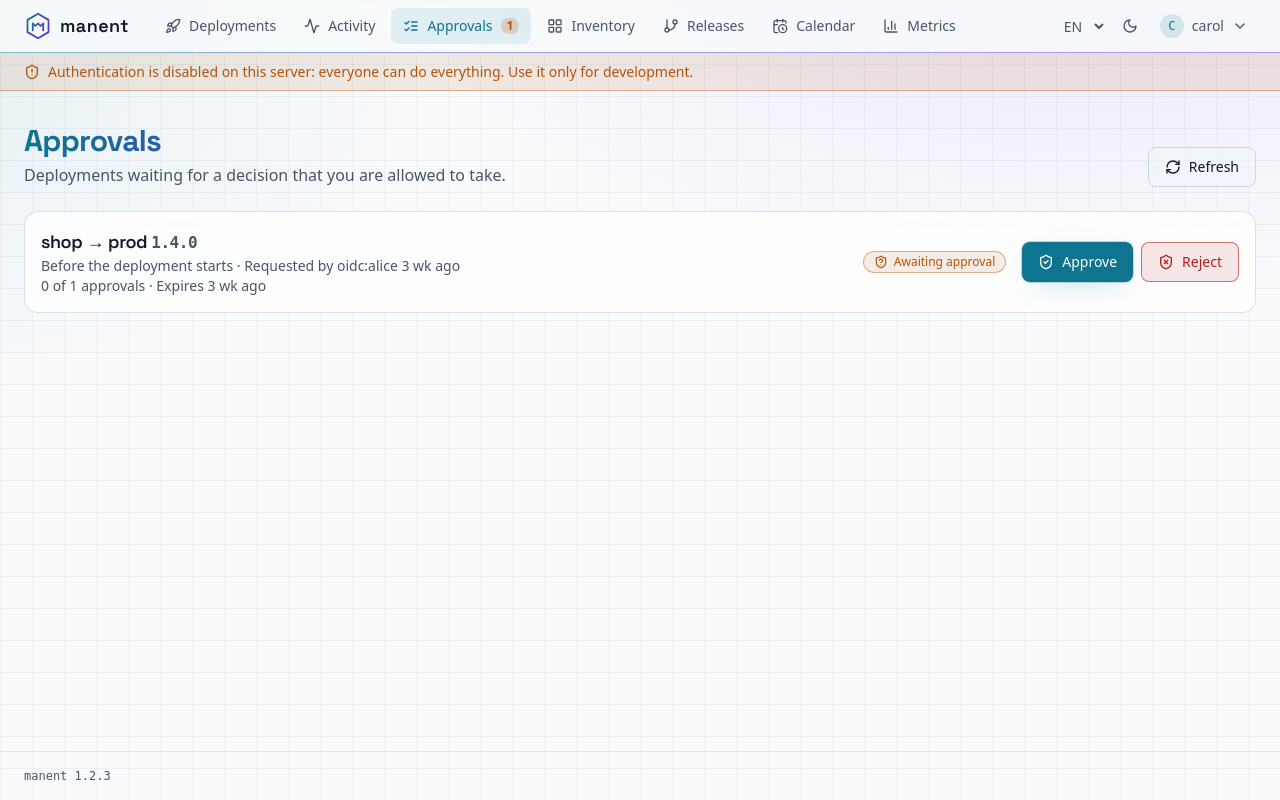
it: approvazioni › per respingere serve un commento
Click the button "Reject". click: [1190, 262]
box: [1141,242,1239,282]
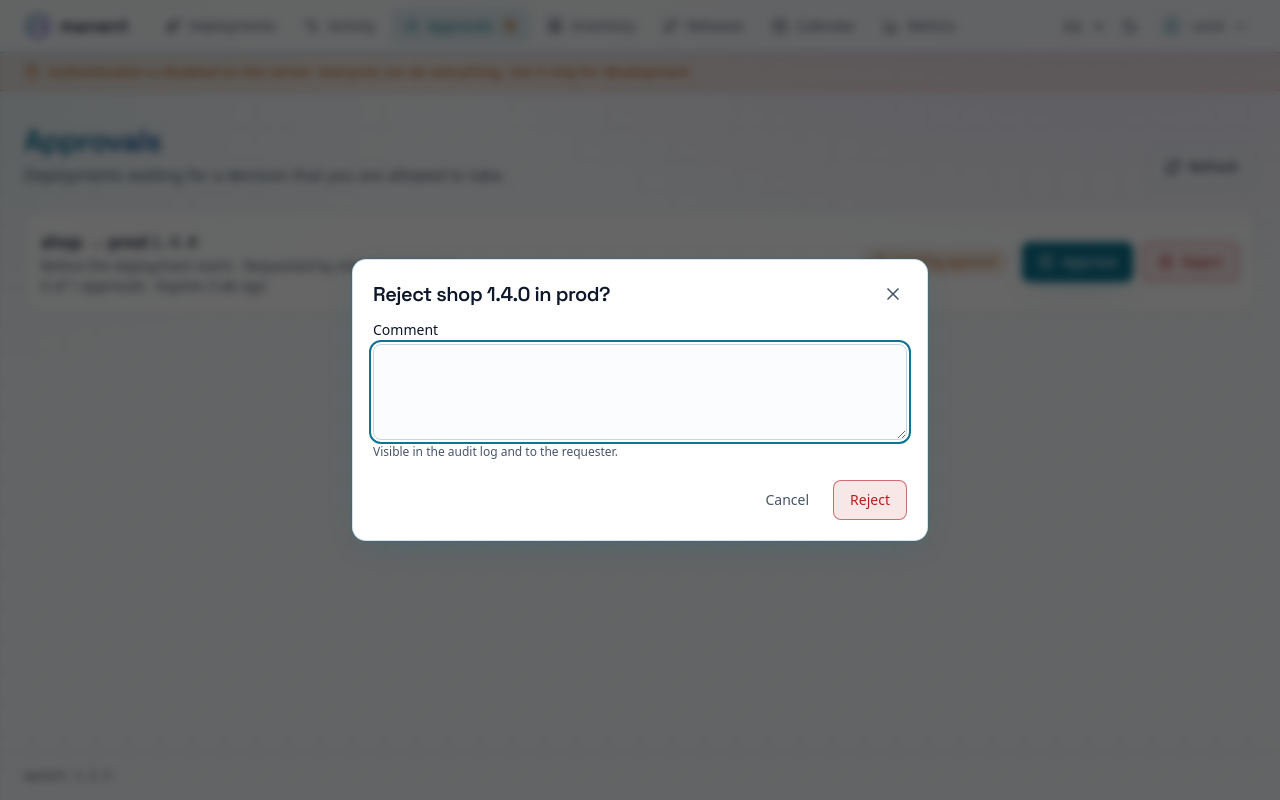
Click the button "Reject". click: [870, 500]
box: [833,480,907,520]
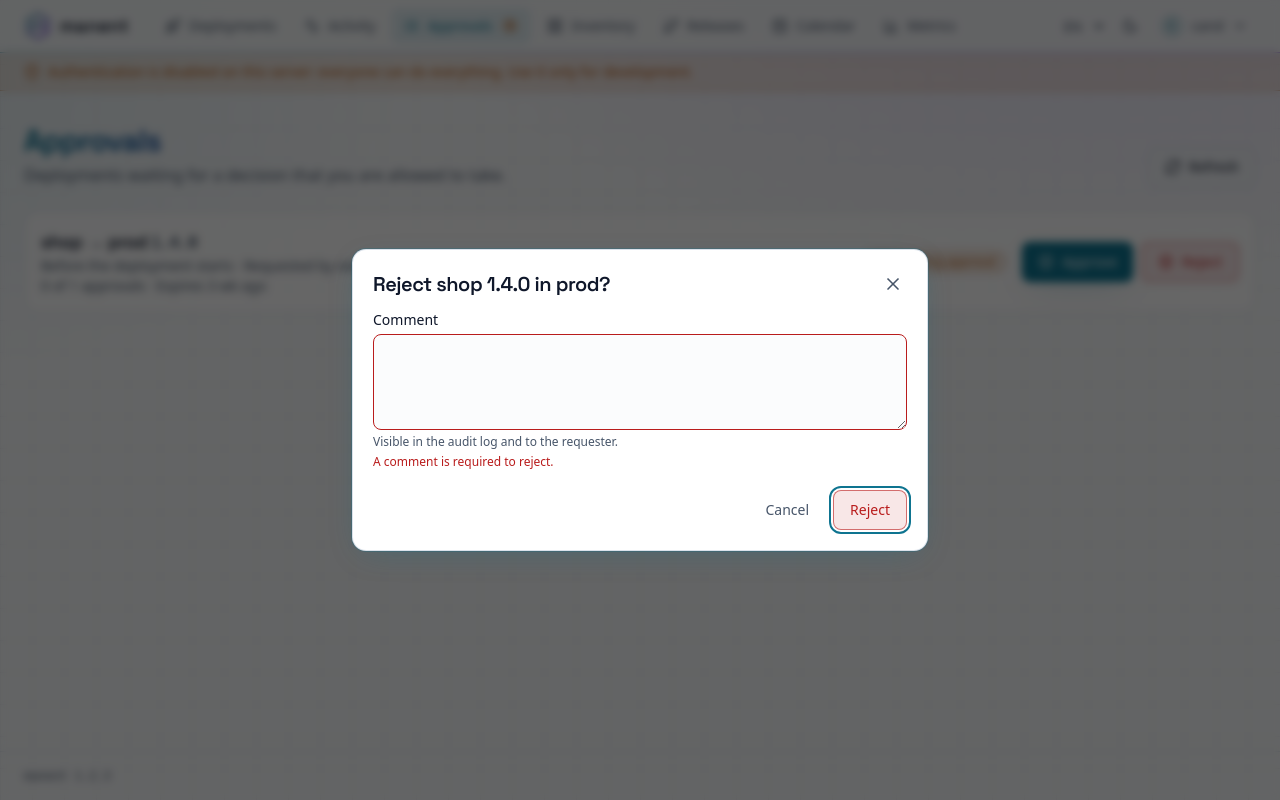
Expected: the text "A comment is required to reject." is shown, [373,453,554,470]
